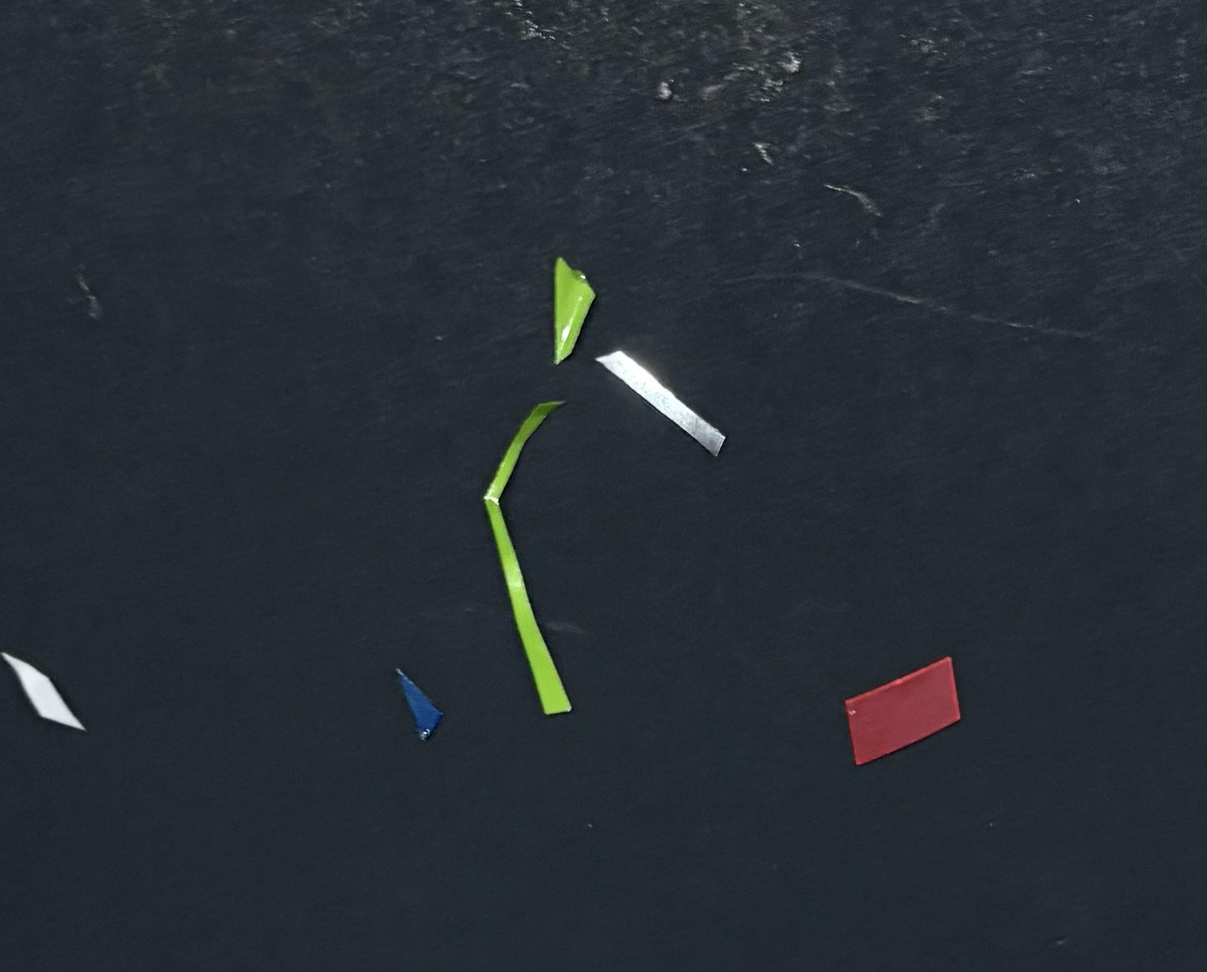Microplastic Particle: (483, 400, 572, 716), (597, 351, 724, 455), (845, 657, 960, 765), (0, 652, 85, 730), (553, 257, 595, 364), (396, 669, 443, 740)
